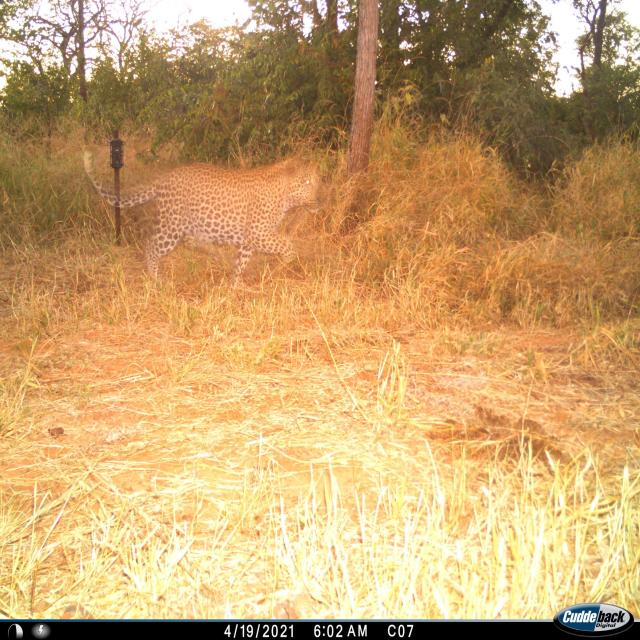Leopard: (96, 148, 346, 278)
